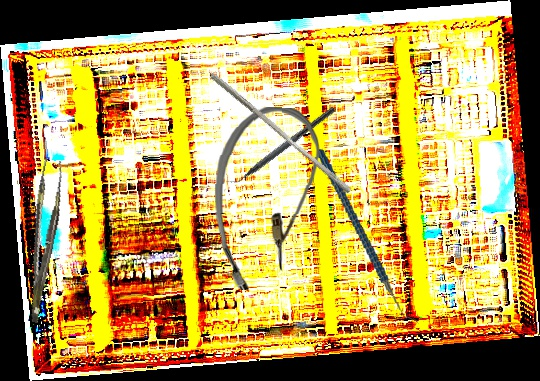Cannula: (211, 105, 322, 293)
Chopper: (317, 138, 419, 336), (224, 99, 336, 192)
Pusher: (204, 71, 357, 195)
Tissue Forceps: (11, 157, 72, 324)
